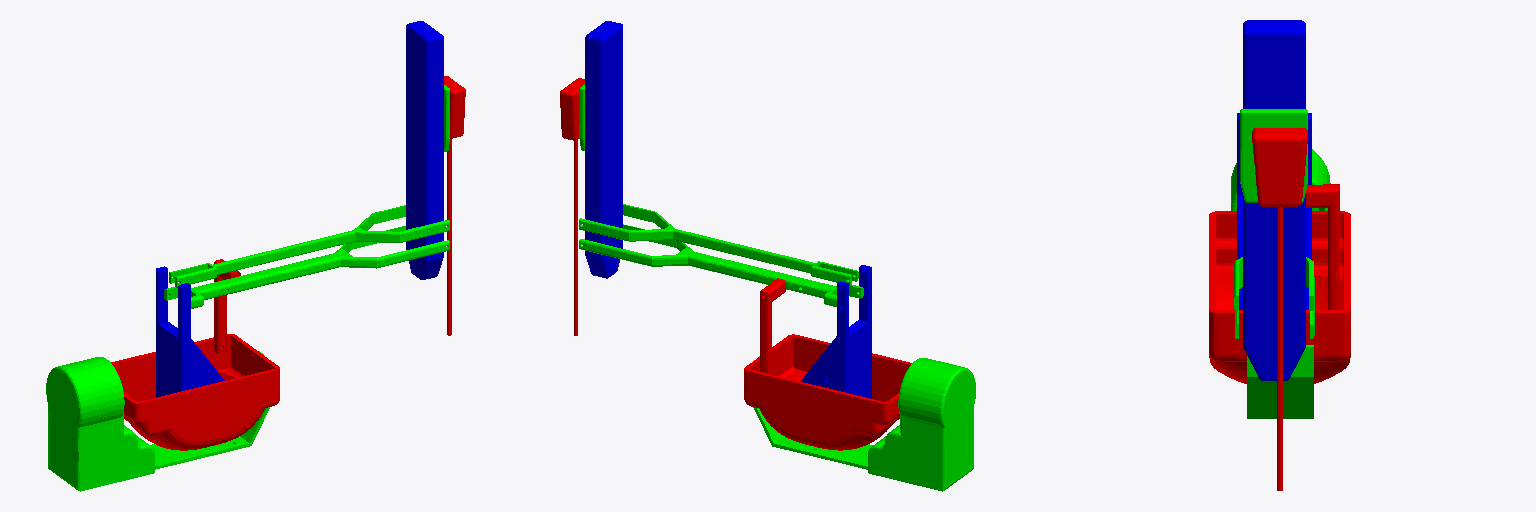
robot.urdf — daVinci:
<?xml version="1.0" encoding="utf-8"?>
<robot name="daVinci">


  <!-- /// LINKS ///////////////////////////////////////////// -->
  <!-- /////////////////////////////////////////////////////// -->
  
  <link name="world"/>

  <joint name="wall_joint" type="fixed">
    <parent link="world"/>
    <child link="mounting_platform"/>
    <origin rpy="0 0 0" xyz="0 -0.762 0"/>
  </joint>

  <link name="mounting_platform">
    <inertial>
      <mass value="0.01"/>
      <origin xyz="0 0 0"/>
      <inertia ixx="1.0" ixy="0.0" ixz="0.0" iyy="1.0" iyz="0.0" izz="1.0"/>
    </inertial>
    <visual>
      <origin rpy="0 0 0" xyz="0 0 0"/>
      <geometry>
        <mesh filename="package://daVinciCore/meshes/slave_frame.stl"/>      
      </geometry>
    </visual>
    <collision>
      <origin rpy="0 0 0" xyz="0 0 1.0"/>
      <geometry>
        <mesh filename="package://daVinciCore/meshes/slave_frame.stl"/>      
      </geometry>
    </collision>
  </link>

  <joint name="mounting_base_joint" type="fixed">
    <parent link="mounting_platform"/>
    <child link="mounting_base_link"/>
    <origin rpy="0 0 0" xyz="0.38114 1.03237 1.60767"/>
  </joint>

  <link name="mounting_base_link">
    <inertial>
      <mass value="0.01"/>
      <origin xyz="0 0 0"/>
      <inertia ixx="1.0" ixy="0.0" ixz="0.0" iyy="1.0" iyz="0.0" izz="1.0"/>
    </inertial>
    <visual>
      <origin rpy="0 0 0" xyz="0 0 0"/>
      <geometry>
        <mesh filename="package://daVinciCore/meshes/mounting_base.stl"/>      
      </geometry>
      <material name="green">
        <color rgba="0 1 0 1"/>
      </material>
    </visual>
    <collision>
      <origin rpy="0 0 0" xyz="0 0 0"/>
      <geometry>
        <mesh filename="package://daVinciCore/meshes/mounting_base.stl"/>      
      </geometry>
    </collision>
  </link>

  <!-- TODO: should be revolute joint with limits -->
  <!-- joint 1 -->
  <joint name="outer_yaw_joint" type="continuous">
    <parent link="mounting_base_link"/>
    <child link="outer_yaw_link"/>
    <axis xyz="1 0 0"/>
    <origin rpy="0 0 0" xyz="0.094 0.0525 0.147"/>
    <dynamics damping="0.1"/>
  </joint>


  <link name="outer_yaw_link">
    <inertial>
      <mass value="0.01"/>
      <origin xyz="0.001 -0.1 -0.1375"/>
      <inertia ixx="1.0" ixy="0.0" ixz="0.0" iyy="1.0" iyz="0.0" izz="1.0"/>
    </inertial>
    <visual>
      <origin rpy="0 0 0" xyz="0.001 -0.1 -0.1375"/>
      <geometry>
        <mesh filename="package://daVinciCore/meshes/outer_yaw.stl"/>      
      </geometry>
      <material name="red">
        <color rgba="1 0 0 1"/>
      </material>
    </visual>
    <collision>
      <origin rpy="0 0 0" xyz="0.001 -0.1 -0.1375"/>
      <geometry>
        <mesh filename="package://daVinciCore/meshes/outer_yaw.stl"/>      
      </geometry>
    </collision>
  </link>

  <!-- TODO: should be revolute joint with limits -->
  <!-- joint 2 -->
  <joint name="outer_pitch_base_joint" type="continuous">
    <parent link="outer_yaw_link"/>
    <child link="outer_pitch_base_link"/>
    <axis xyz="0 1 0"/>
    <origin rpy="0 0 0" xyz="0.150 0.085 0"/>
    <dynamics damping="0.1"/>
  </joint>


  <link name="outer_pitch_base_link">
    <inertial>
      <mass value="0.01"/>
      <origin xyz="-0.040 -0.130 -0.0901"/>
      <inertia ixx="1.0" ixy="0.0" ixz="0.0" iyy="1.0" iyz="0.0" izz="1.0"/>
    </inertial>
    <visual>
      <origin rpy="0 0 0" xyz="-0.040 -0.130 -0.0901"/>
      <geometry>
        <mesh filename="package://daVinciCore/meshes/outer_pitch_base.stl"/>      
      </geometry>
      <material name="blue">
        <color rgba="0 0 1 1"/>
      </material>
    </visual>
    <collision>
      <origin rpy="0 0 0" xyz="-0.040 -0.130 -0.0901"/>
      <geometry>
        <mesh filename="package://daVinciCore/meshes/outer_pitch_base.stl"/>      
      </geometry>
    </collision>
  </link>

  <joint name="outer_pitch_front_joint" type="continuous">
    <axis xyz="0 1 0"/>
    <parent link="outer_yaw_link"/>
    <origin rpy="0 0 0" xyz="0.245 0.085 0"/>
    <child link="outer_pitch_front_link"/>
    <dynamics damping="0.1"/>
  </joint>


  <link name="outer_pitch_front_link">
    <inertial>
      <mass value="0.01"/>
      <origin xyz="0 -0.066 -0.010"/>
      <inertia ixx="1.0" ixy="0.0" ixz="0.0" iyy="1.0" iyz="0.0" izz="1.0"/>
    </inertial>
    <visual>
      <origin rpy="0 0 0" xyz="0 -0.066 -0.010"/>
      <geometry>
        <mesh filename="package://daVinciCore/meshes/outer_pitch_front.stl"/>      
      </geometry>
      <material name="red"/>
    </visual>
    <collision>
      <origin rpy="0 0 0" xyz="0 -0.066 -0.010"/>
      <geometry>
        <mesh filename="package://daVinciCore/meshes/outer_pitch_front.stl"/>      
      </geometry>
    </collision>
  </link>

  <joint name="outer_pitch_bottom_joint" type="continuous">
    <axis xyz="0 1 0"/>
    <parent link="outer_pitch_base_link"/>
    <origin rpy="0 0 0" xyz="-0.03 -0.040 0.147"/>
    <child link="outer_pitch_bottom_link"/>
    <dynamics damping="0.1"/>
  </joint>


  <link name="outer_pitch_bottom_link">
    <inertial>
      <mass value="0.01"/>
      <origin xyz="0 -0.093 -0.010"/>
      <inertia ixx="1.0" ixy="0.0" ixz="0.0" iyy="1.0" iyz="0.0" izz="1.0"/>
    </inertial>
    <visual>
      <origin rpy="0 0 0" xyz="0 -0.093 -0.010"/>
      <geometry>
        <mesh filename="package://daVinciCore/meshes/outer_pitch_bottom.stl"/>      
      </geometry>
      <material name="green"/>
    </visual>
    <collision>
      <origin rpy="0 0 0" xyz="0 -0.093 -0.010"/>
      <geometry>
        <mesh filename="package://daVinciCore/meshes/outer_pitch_bottom.stl"/>      
      </geometry>
    </collision>
  </link>

  <joint name="outer_pitch_top_joint" type="continuous">
    <axis xyz="0 1 0"/>
    <parent link="outer_pitch_base_link"/>
    <origin rpy="0 0 0" xyz="-0.03 -0.040 0.185"/>
    <child link="outer_pitch_top_link"/>
    <dynamics damping="0.1"/>
  </joint>


  <link name="outer_pitch_top_link">
    <inertial>
      <mass value="0.01"/>
      <origin xyz="0 -0.093 -0.010"/>
      <inertia ixx="1.0" ixy="0.0" ixz="0.0" iyy="1.0" iyz="0.0" izz="1.0"/>
    </inertial>
    <visual>
      <origin rpy="0 0 0" xyz="0 -0.093 -0.010"/>
      <geometry>
        <mesh filename="package://daVinciCore/meshes/outer_pitch_top.stl"/>      
      </geometry>
      <material name="green"/>
    </visual>
    <collision>
      <origin rpy="0 0 0" xyz="0 -0.093 -0.010"/>
      <geometry>
        <mesh filename="package://daVinciCore/meshes/outer_pitch_top.stl"/>      
      </geometry>
    </collision>
  </link>

  <joint name="outer_insertion_joint" type="continuous">
    <parent link="outer_pitch_bottom_link"/>
    <child link="outer_insertion_link"/>
    <axis xyz="0 1 0"/>
    <origin rpy="0 0 0" xyz="0.510 0.003 0"/>
    <dynamics damping="0.1"/>
  </joint>


  <link name="outer_insertion_link">
    <inertial>
      <mass value="0.01"/>
      <origin xyz="-0.031 -0.086 -0.070"/>
      <inertia ixx="1.0" ixy="0.0" ixz="0.0" iyy="1.0" iyz="0.0" izz="1.0"/>
    </inertial>
    <visual>
      <origin rpy="0 0 0" xyz="-0.031 -0.086 -0.070"/>
      <geometry>
        <mesh filename="package://daVinciCore/meshes/outer_insertion.stl"/>
      </geometry>
      <material name="blue"/>
    </visual>
    <collision>
      <origin rpy="0 0 0" xyz="-0.031 -0.086 -0.070"/>
      <geometry>
        <mesh filename="package://daVinciCore/meshes/outer_insertion.stl"/>      
      </geometry>
    </collision>
  </link>

  <!-- TODO: set correct limit -->
  <!-- joint 3 -->
  <joint name="tool_insertion_joint" type="prismatic">
    <parent link="outer_insertion_link"/>
    <child link="tool_adaptor_link"/>
    <axis xyz="0 0 1"/>
    <origin rpy="0 0 0" xyz="0.005 -0.048 -0.200"/>
    <dynamics damping="0.1"/>
    <limit effort="30" velocity="1.0" lower="-0.5" upper="0.5"/>
  </joint>

  <link name="tool_adaptor_link">
    <inertial>
      <mass value="0.01"/>
      <origin xyz="0 -0.041 0"/>
      <inertia ixx="1.0" ixy="0.0" ixz="0.0" iyy="1.0" iyz="0.0" izz="1.0"/>
    </inertial>
    <visual>
      <origin rpy="0 0 0" xyz="0 -0.041 0"/>
      <geometry>
        <mesh filename="package://daVinciCore/meshes/tool_adaptor.stl"/>
      </geometry>
      <material name="green"/>
    </visual>
    <collision>
      <origin rpy="0 0 0" xyz="0 -0.041 0"/>
      <geometry>
        <mesh filename="package://daVinciCore/meshes/tool_adaptor.stl"/>
      </geometry>
    </collision>
  </link>


  <!-- TODO: tool is fixed to adapter ???   -->
  <joint name="tool_joint" type="fixed">
    <parent link="tool_adaptor_link"/>
    <child link="tool_link"/>
    <origin rpy="0 0 0" xyz="0.010 0 0"/>
  </joint>

  <link name="tool_link">
    <inertial>
      <mass value="0.01"/>
      <origin xyz="0 -0.034 0"/>
      <inertia ixx="1.0" ixy="0.0" ixz="0.0" iyy="1.0" iyz="0.0" izz="1.0"/>
    </inertial>
    <visual>
      <origin rpy="0 0 0" xyz="0 -0.034 0"/>
      <geometry>
        <mesh filename="package://daVinciCore/meshes/tool_asm.stl"/>      
      </geometry>
      <material name="red"/>
    </visual>
    <collision>
      <origin rpy="0 0 0" xyz="0 -0.034 0"/>
      <geometry>
        <mesh filename="package://daVinciCore/meshes/tool_asm.stl"/>      
      </geometry>
    </collision>
  </link>

  <gazebo reference="world">
    <material>Gazebo/WoodFloor</material>
    <turnGravityOff>false</turnGravityOff>
  </gazebo>

  <gazebo reference="mounting_platform">
    <material>Gazebo/Gold</material>
    <turnGravityOff>false</turnGravityOff>
  </gazebo>

  <gazebo reference="mounting_base_link">
    <material>Gazebo/Blue</material>
    <turnGravityOff>false</turnGravityOff>
  </gazebo>

  <gazebo reference="outer_yaw_link">
    <material>Gazebo/Red</material>
    <turnGravityOff>false</turnGravityOff>
  </gazebo>

  <gazebo reference="outer_pitch_base_link">
    <material>Gazebo/Green</material>
    <turnGravityOff>false</turnGravityOff>
  </gazebo>

  <gazebo reference="outer_pitch_front_link">
    <material>Gazebo/Blue</material>
    <turnGravityOff>false</turnGravityOff>
  </gazebo>

  <gazebo reference="outer_pitch_bottom_link">
    <material>Gazebo/Red</material>
    <turnGravityOff>false</turnGravityOff>
  </gazebo>

  <gazebo reference="outer_pitch_top_link">
    <material>Gazebo/Red</material>
    <turnGravityOff>false</turnGravityOff>
  </gazebo>

  <gazebo reference="outer_insertion_link">
    <material>Gazebo/Blue</material>
    <turnGravityOff>false</turnGravityOff>
  </gazebo>

  <gazebo reference="tool_adaptor_link">
    <material>Gazebo/Red</material>
    <turnGravityOff>false</turnGravityOff>
  </gazebo>

  <gazebo reference="tool_link">
    <material>Gazebo/Green</material>
    <turnGravityOff>false</turnGravityOff>
  </gazebo>

  <!-- <gazebo> -->
  <!--   <controller:daVinciGazeboJointController -->
  <!--       name="daVinciGazeboJointController" -->
  <!--       plugin="libdaVinciGazeboJointController.so"> -->
  <!--     <alwaysOn>true</alwaysOn> -->
  <!--     <updateRate>100.0</updateRate> -->
  <!--   </controller:daVinciGazeboJointController> -->
  <!-- </gazebo> -->

</robot>

--- Render facts (derived) ---
3 views of the same robot in one strip: view 1: azimuth 30°, elevation 25°; view 2: azimuth 150°, elevation 25°; view 3: azimuth 270°, elevation 25° (orthographic).
Model daVinci with 11 links and 10 joints (6 continuous, 1 prismatic, 3 fixed), rooted at world, posed all joints at 0.
Visible links, largest first — view 1: mounting_base_link, outer_yaw_link, outer_insertion_link, outer_pitch_base_link, outer_pitch_bottom_link, outer_pitch_top_link, tool_link, outer_pitch_front_link; view 2: mounting_base_link, outer_yaw_link, outer_insertion_link, outer_pitch_base_link, outer_pitch_top_link, outer_pitch_bottom_link, tool_link, outer_pitch_front_link; view 3: outer_insertion_link, outer_yaw_link, tool_link, mounting_base_link, tool_adaptor_link, outer_pitch_front_link, outer_pitch_base_link, outer_pitch_top_link.
Boxes of the visible links, x1=… form: mounting_base_link: x1=46, y1=351, x2=269, y2=491; outer_yaw_link: x1=111, y1=334, x2=279, y2=450; outer_insertion_link: x1=406, y1=21, x2=443, y2=279; outer_pitch_base_link: x1=156, y1=266, x2=224, y2=397; outer_pitch_bottom_link: x1=164, y1=226, x2=449, y2=308; outer_pitch_top_link: x1=169, y1=205, x2=449, y2=287; tool_link: x1=444, y1=76, x2=465, y2=335; outer_pitch_front_link: x1=214, y1=259, x2=240, y2=353; mounting_base_link: x1=753, y1=356, x2=975, y2=491; outer_yaw_link: x1=744, y1=334, x2=911, y2=450; outer_insertion_link: x1=585, y1=21, x2=622, y2=278; outer_pitch_base_link: x1=800, y1=265, x2=871, y2=398; outer_pitch_top_link: x1=579, y1=204, x2=858, y2=285; outer_pitch_bottom_link: x1=579, y1=224, x2=863, y2=306; tool_link: x1=560, y1=78, x2=584, y2=335; outer_pitch_front_link: x1=760, y1=278, x2=785, y2=374; outer_insertion_link: x1=1243, y1=20, x2=1305, y2=380; outer_yaw_link: x1=1209, y1=211, x2=1350, y2=383; tool_link: x1=1252, y1=128, x2=1307, y2=490; mounting_base_link: x1=1231, y1=149, x2=1330, y2=418; tool_adaptor_link: x1=1240, y1=109, x2=1307, y2=202; outer_pitch_front_link: x1=1306, y1=184, x2=1339, y2=309; outer_pitch_base_link: x1=1237, y1=113, x2=1311, y2=309; outer_pitch_top_link: x1=1234, y1=257, x2=1313, y2=310.
Bounding box of the posed robot: 0.779 × 0.17 × 0.6897 m (x, y, z).
Meshes: 10 distinct files referenced, 9 mesh visuals loaded (9 binary STL); not drawn: 1 (reference not matched to a file when rendering).
